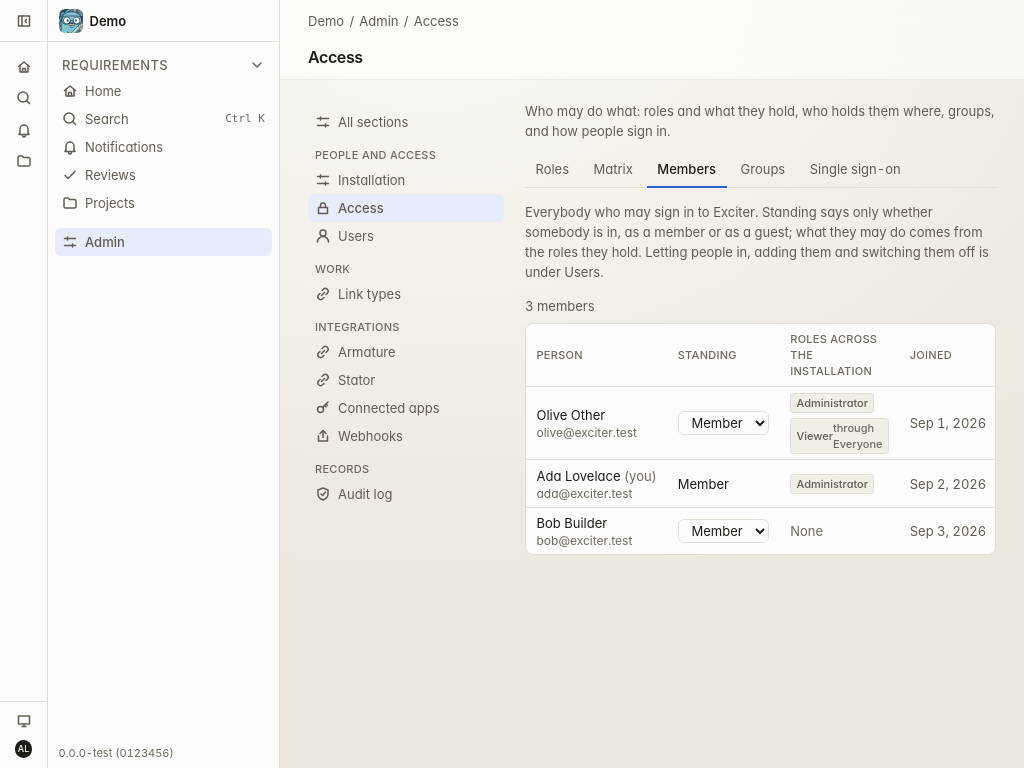
Scenario: the Members tab › shows why a role change was refused
Select "Guest" in the dropdown named "Standing of Bob Builder" at (723, 531), box [678,519,769,543]
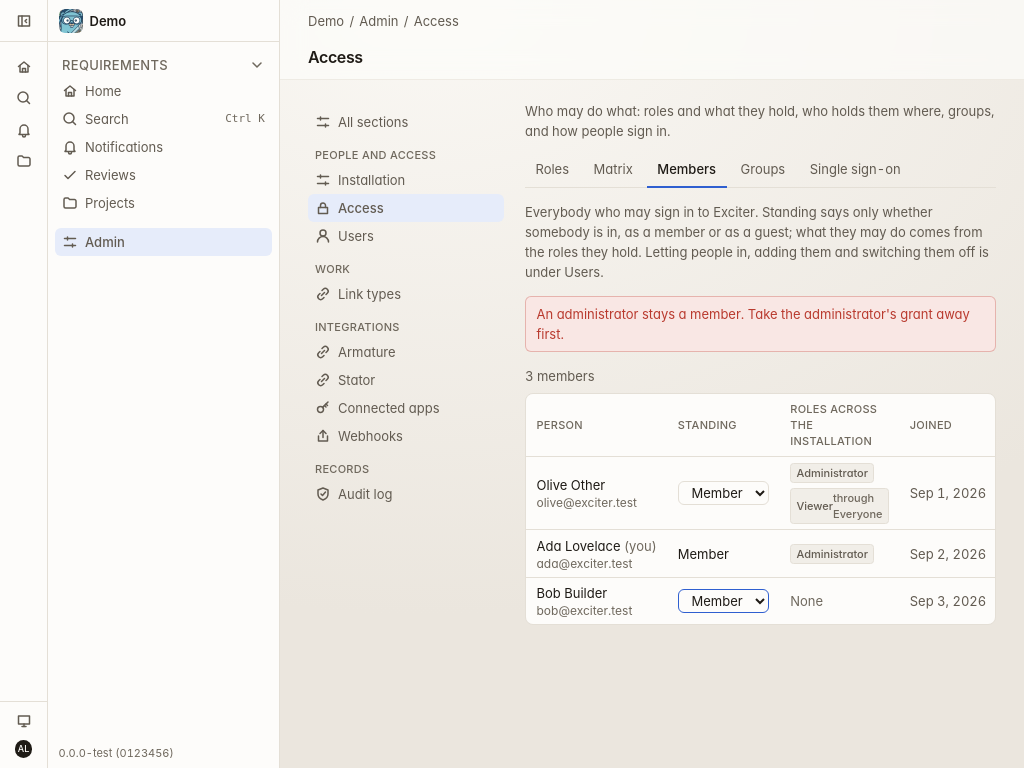
Expected: the message shows "An administrator stays a member.", [536,306,970,342]
